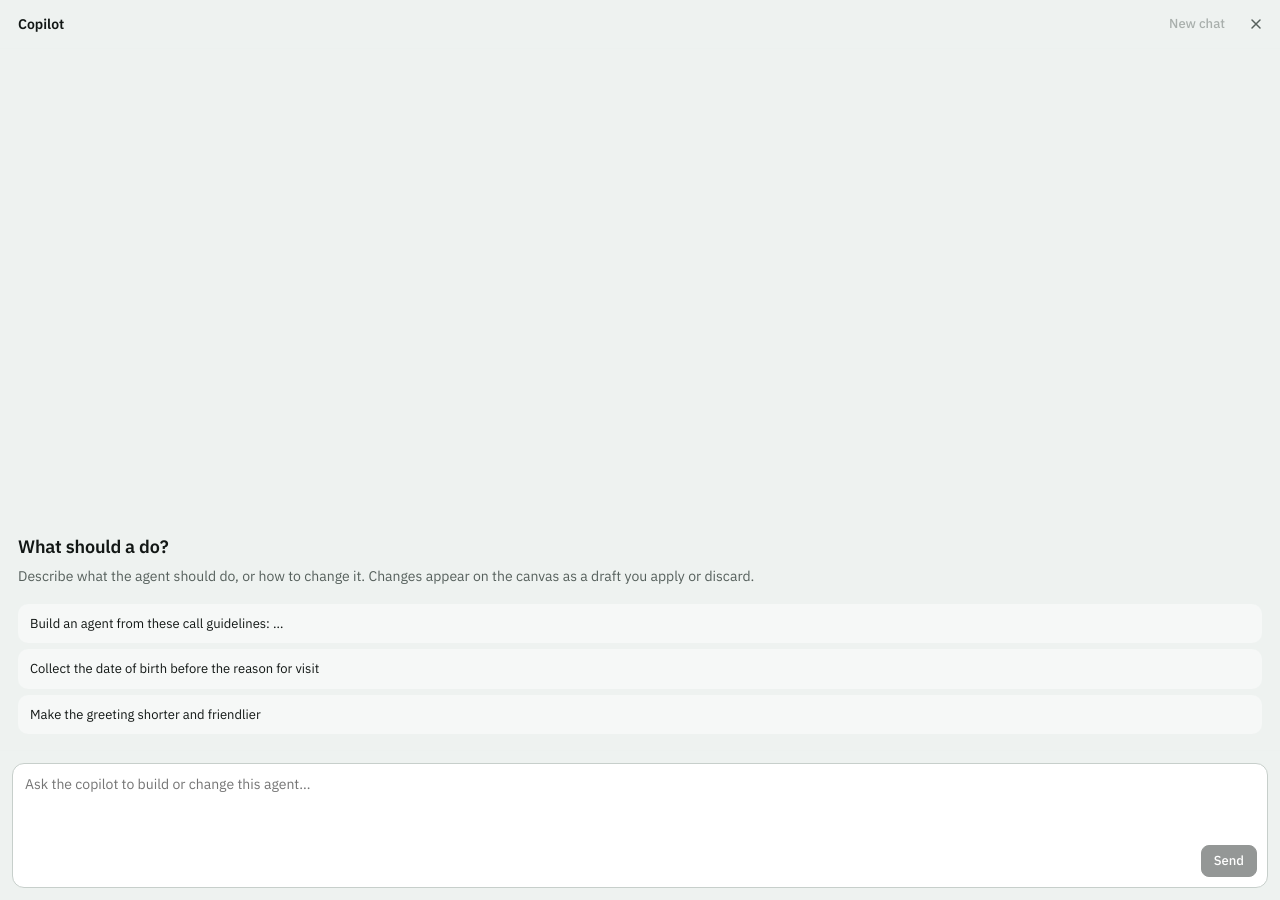
Scenario: CopilotPanel › shows other errors as they are, and New chat clears the conversation
The image size is (1280, 900).
Type "go" into the text box named "Message to the copilot" at (640, 806), box [23,774,1257,837]
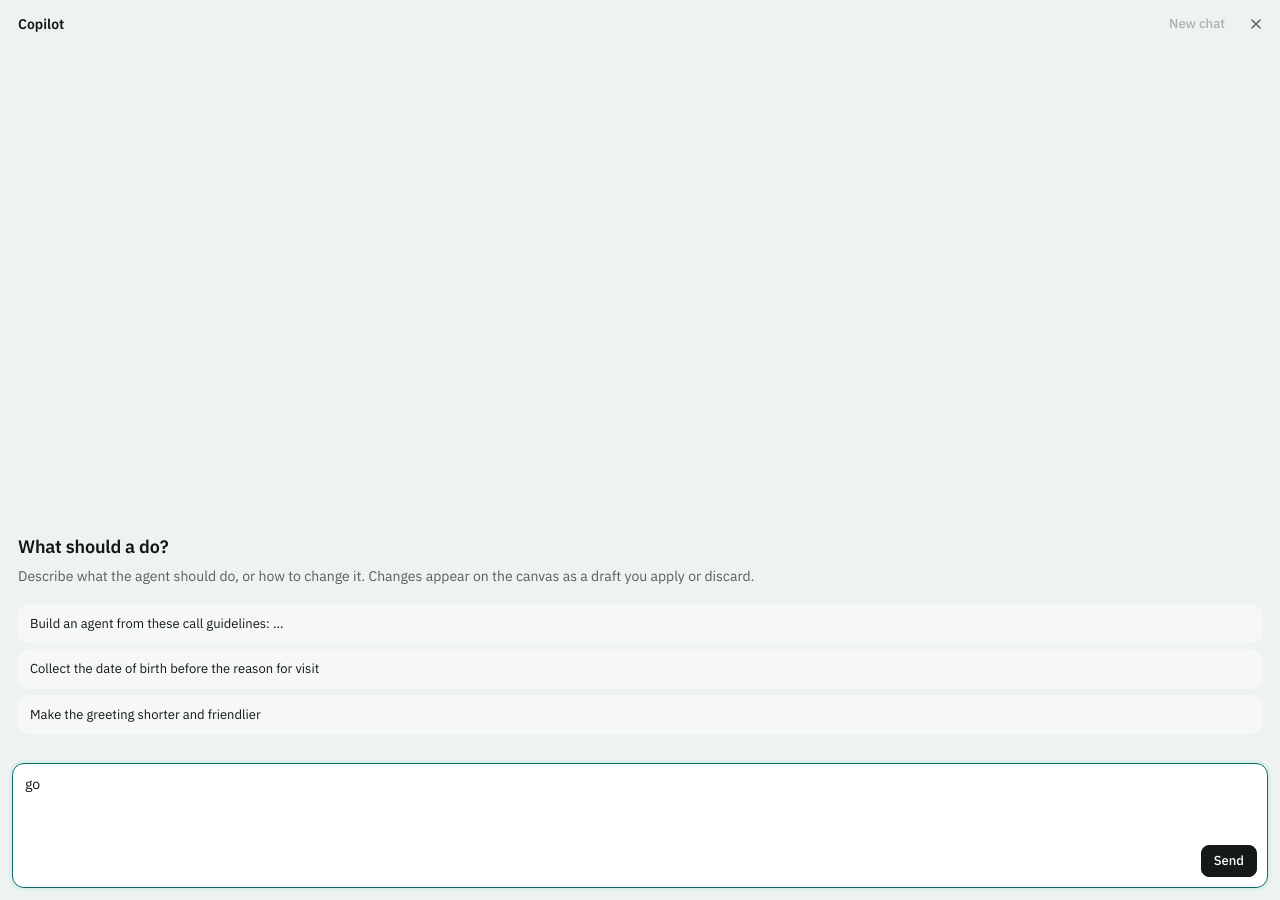
Click the button "Send" at (1229, 861), box [1201,845,1257,877]
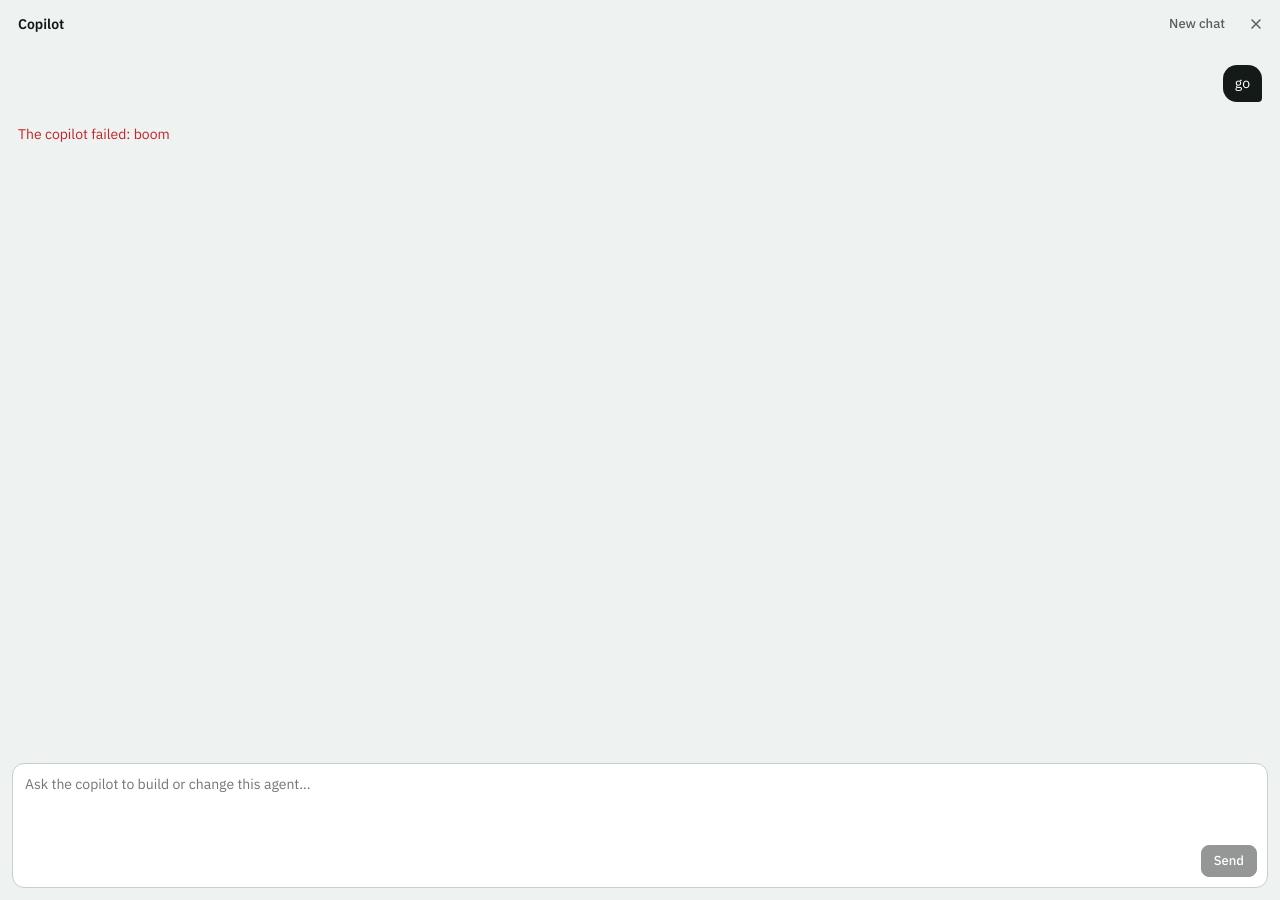
Check: the text box named "Message to the copilot" is enabled, box [23,774,1257,837]
Check: the message reads "The copilot failed: boom", box [18,125,170,143]
Click the button "New chat" at (1197, 24), box [1156,10,1238,38]
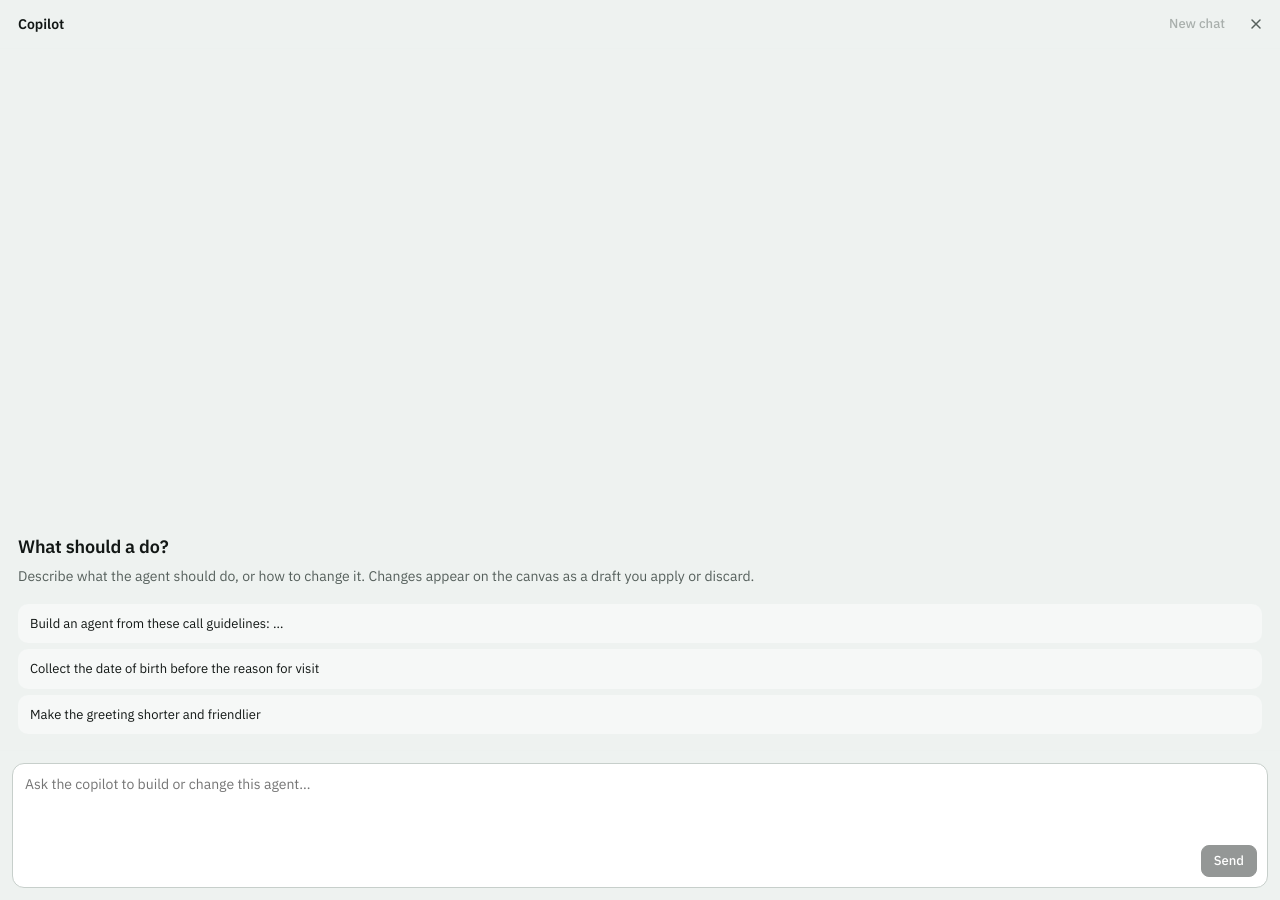
Check: the list named "Example requests" is shown, box [18,604,1262,734]
